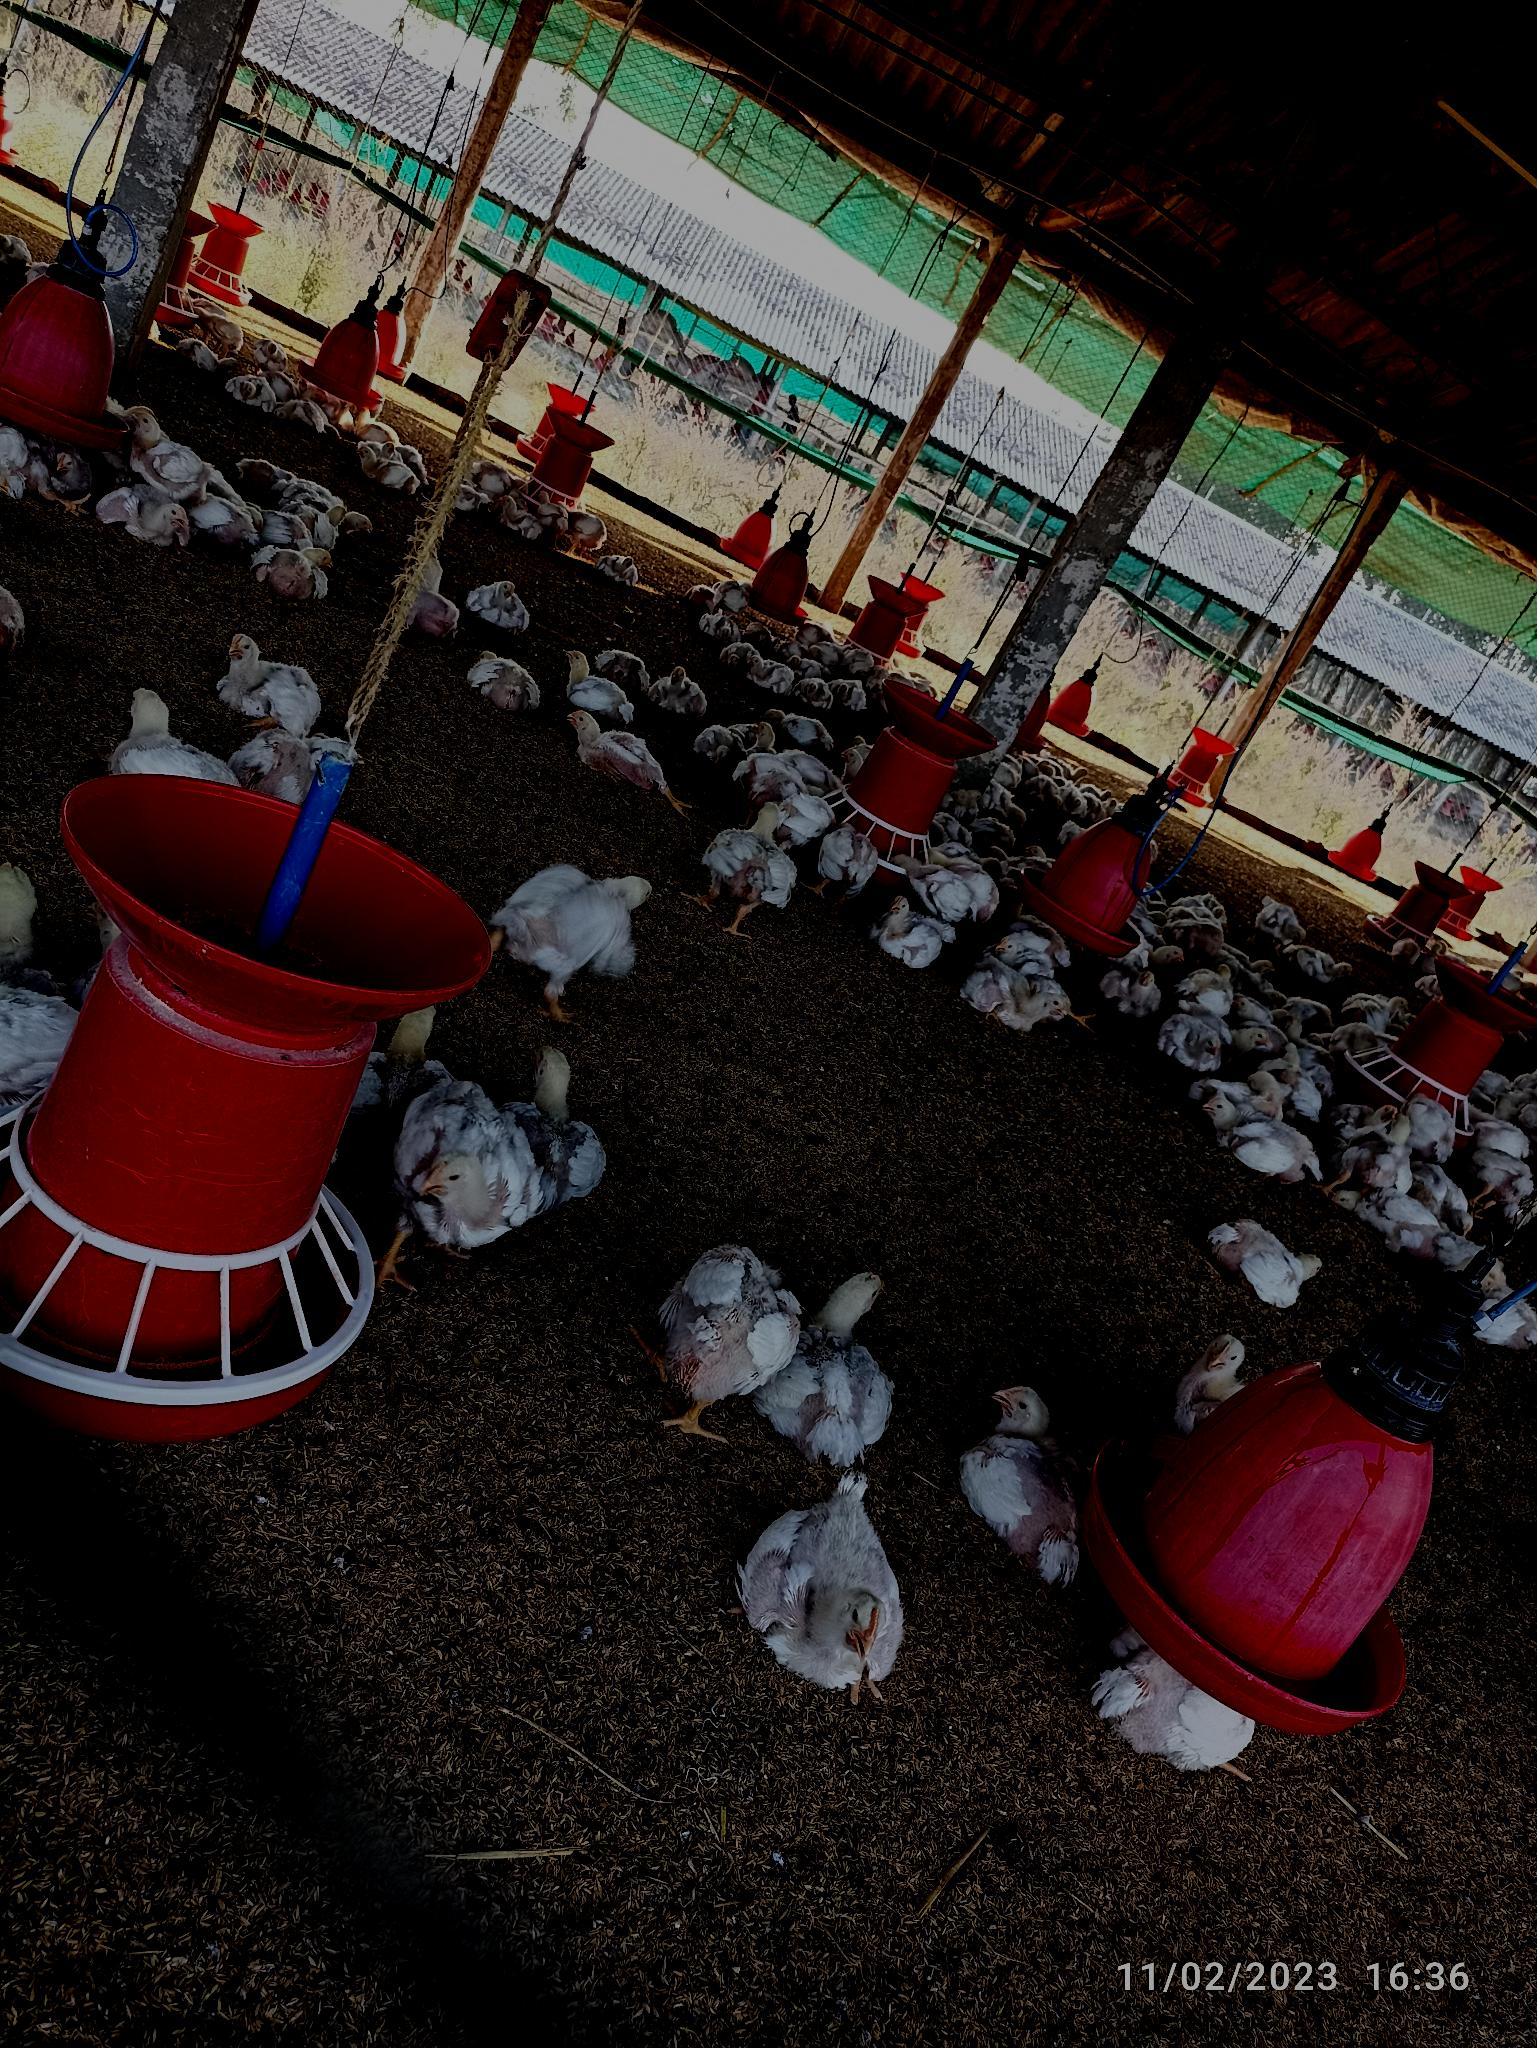Pollos: (768, 1470, 909, 1691), (772, 1252, 928, 1446), (418, 1072, 551, 1259), (974, 1377, 1090, 1561), (672, 1243, 780, 1396), (507, 875, 660, 981), (1204, 1206, 1330, 1309), (1203, 1088, 1316, 1180), (706, 800, 791, 913), (224, 623, 316, 723), (568, 708, 667, 792), (113, 691, 203, 767), (250, 541, 342, 607), (103, 487, 192, 554), (1372, 1175, 1448, 1244), (970, 976, 1078, 1025), (882, 894, 951, 965), (131, 408, 203, 470), (471, 650, 542, 705), (1166, 1018, 1237, 1070), (563, 634, 622, 694), (468, 576, 531, 626), (1290, 942, 1359, 984), (655, 667, 715, 712), (1256, 884, 1305, 939), (1111, 968, 1171, 1009)
